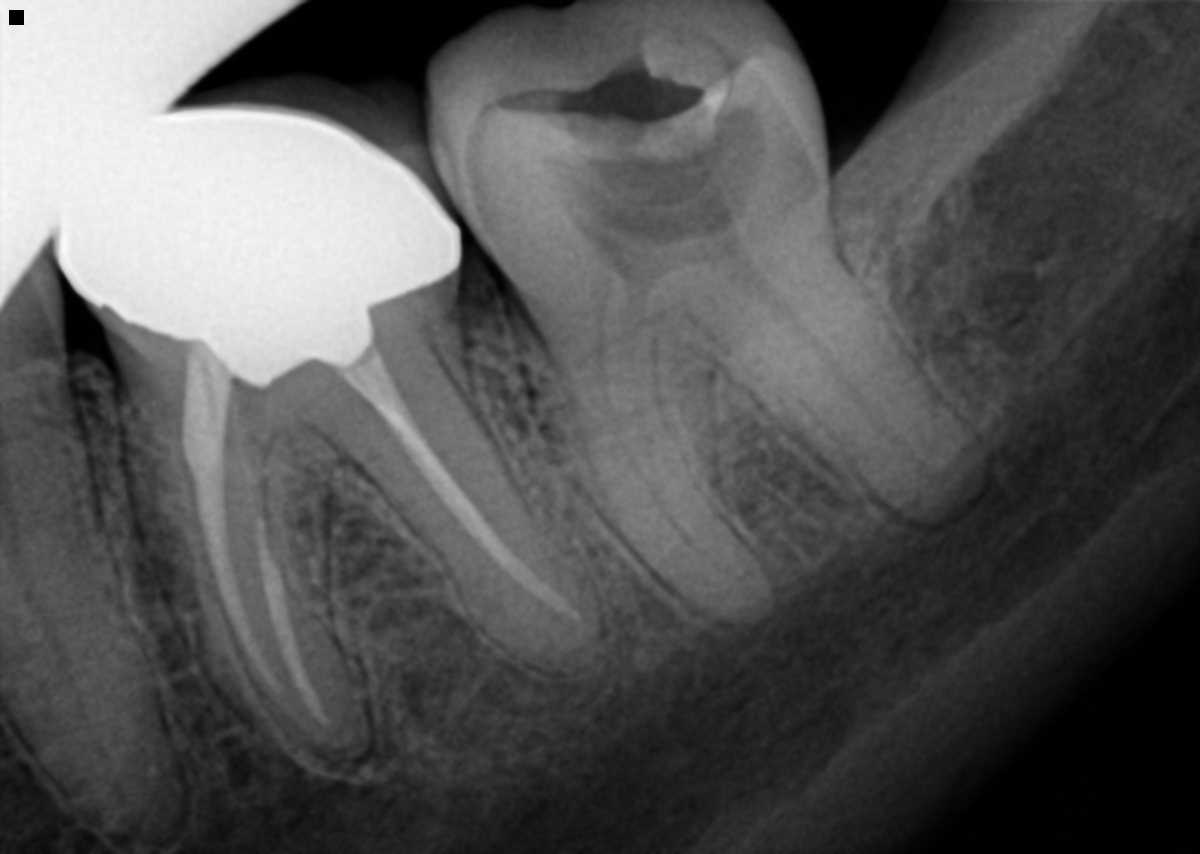Apical Lesion: (283, 676, 391, 789)
Distal Canal: (741, 267, 941, 487)
Distal Root: (320, 343, 604, 677), (704, 206, 988, 531)
Main Canal: (0, 479, 124, 806)
Main Root: (0, 359, 188, 845)
Mesial Canal: (595, 277, 742, 589)
Mesial Root: (119, 397, 357, 752), (549, 345, 777, 630)
Root Canal Filling: (349, 352, 583, 620), (188, 343, 282, 699), (255, 527, 327, 729)
decay: (549, 110, 763, 246)
